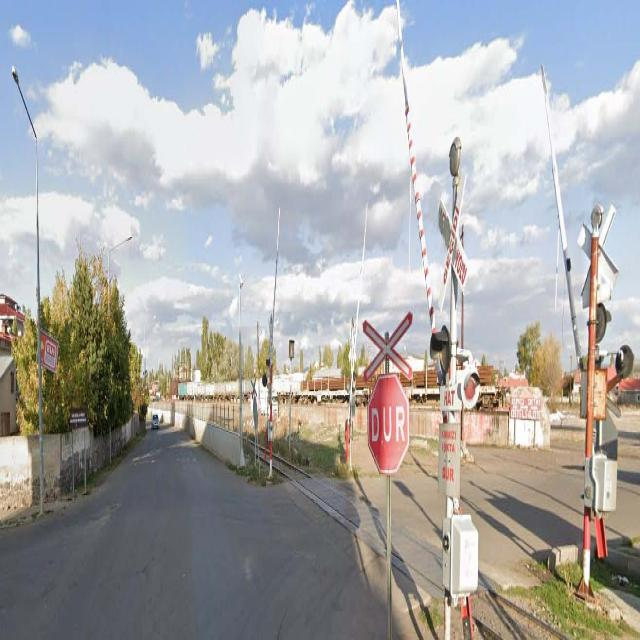dur: (368, 378, 410, 474)
